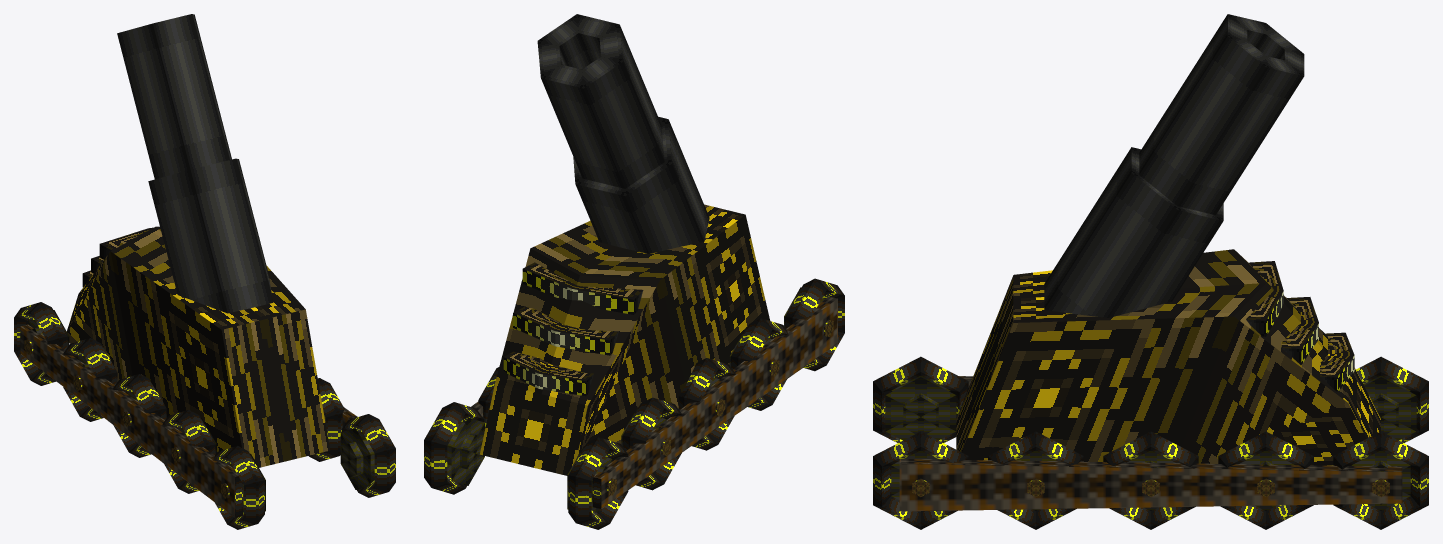
File: ClusterCatapult3DModel.fbx
The picture shows the model from 3 angles, left to right: view 1: azimuth 30°, elevation 25°; view 2: azimuth 150°, elevation 25°; view 3: azimuth 270°, elevation 25°; orthographic projection. The views are drawn at different scales.
Parts seen in each view (by area): view 1: cuboid, tube, tube_1, cuboid_2, torus_4, torus_5, torus, torus_1, torus_2, torus_3, torus_6, cylinder_15 (+2 smaller); view 2: cuboid, tube_1, cuboid_2, tube, torus, site, torus_9, site_1, site_2, torus_1, torus_4, torus_2 (+3 smaller); view 3: cuboid, cuboid_1, tube_1, tube, torus_9, torus_5, torus_8, torus_7, torus_4, cylinder_12, torus_6, torus (+7 smaller).
Part boxes in pixels (box(x1,y1,x2,y2)): cuboid: box(67, 226, 330, 467); tube: box(148, 158, 272, 313); tube_1: box(117, 14, 231, 179); cuboid_2: box(20, 324, 242, 517); torus_4: box(213, 446, 264, 529); torus_5: box(341, 414, 395, 497); torus: box(14, 302, 68, 385); torus_1: box(63, 338, 117, 421); torus_2: box(112, 374, 166, 457); torus_3: box(162, 410, 215, 493); torus_6: box(309, 378, 344, 461); cylinder_15: box(340, 428, 374, 489); cuboid: box(480, 204, 770, 475); tube_1: box(537, 14, 664, 188); cuboid_2: box(592, 296, 837, 508); tube: box(573, 116, 709, 253); torus: box(568, 437, 628, 529); site: box(522, 262, 643, 314); torus_9: box(424, 402, 483, 494); site_1: box(513, 306, 618, 355); site_2: box(503, 351, 593, 396); torus_1: box(622, 397, 682, 490); torus_4: box(785, 278, 844, 371); torus_2: box(678, 358, 735, 450); cuboid: box(956, 249, 1380, 465); cuboid_1: box(899, 459, 1402, 511); tube_1: box(1139, 14, 1304, 214); tube: box(1044, 147, 1223, 317); torus_9: box(1333, 431, 1428, 529); torus_5: box(873, 431, 968, 529); torus_8: box(1218, 431, 1313, 529); torus_7: box(1103, 431, 1198, 529); torus_4: box(873, 356, 968, 442); cylinder_12: box(885, 375, 956, 440); torus_6: box(988, 431, 1083, 529); torus: box(1356, 356, 1428, 442).
Bounding box in the file's own units: 37.5 × 91.07 × 98.12.
Materials: 5 (5 with a texture image).
